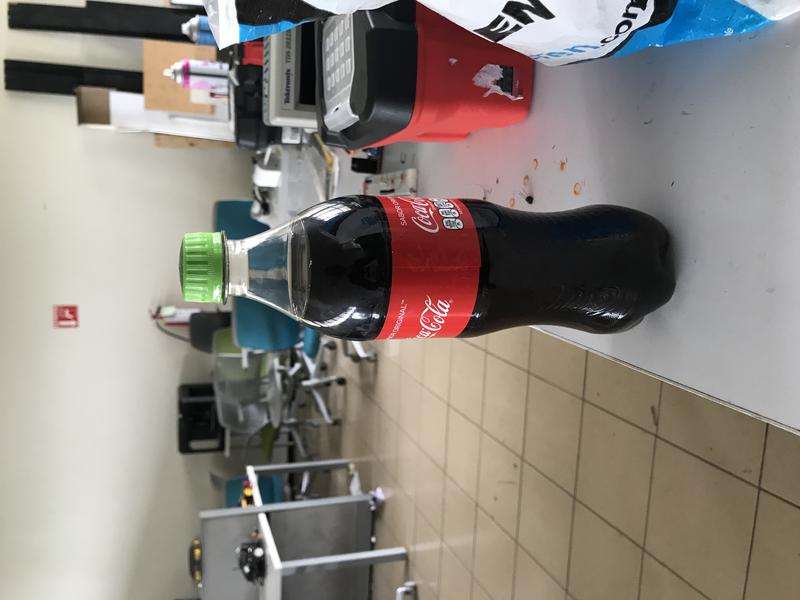coca_cola: (178, 195, 677, 344)
